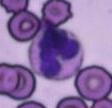N: (29, 27, 84, 80)
